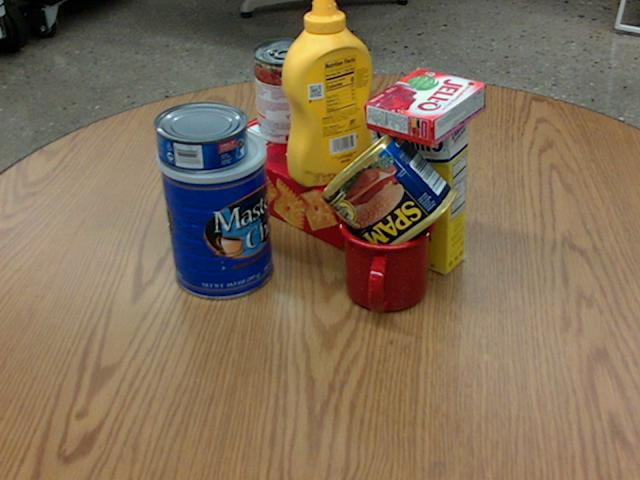cracker_box: (206, 96, 434, 250)
gelatin_box: (365, 67, 485, 146)
large_marker: (198, 122, 224, 226)
master_chef_can: (155, 123, 274, 298)
mug: (337, 198, 436, 314)
mustard_bottle: (282, 0, 375, 186)
potted_meat_can: (320, 129, 457, 261)
sugar_box: (369, 86, 469, 276)
tomato_soup_can: (251, 38, 313, 144)
tuna_fish_can: (153, 100, 247, 171)
